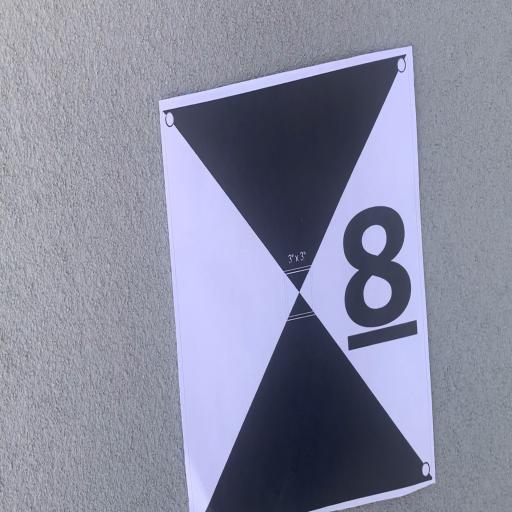target8: (161, 45, 436, 512)
